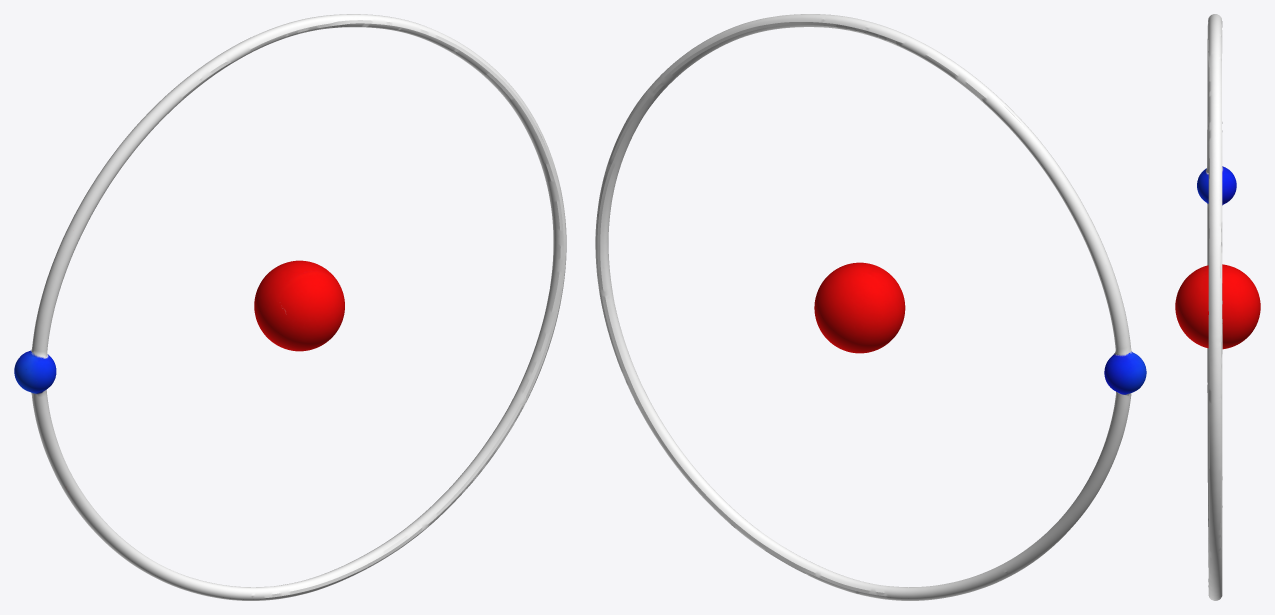
Rendered from Meshy_AI_hydrogen_atom_0407062413_texture.fbx.
3 views of the same model, side by side, from view 1: azimuth 30°, elevation 25°; view 2: azimuth 150°, elevation 25°; view 3: azimuth 270°, elevation 25° (orthographic). The views are drawn at different scales.
Visible parts, largest first — view 1: output; view 2: output; view 3: output.
Boxes of the visible parts, <box> form: output: <box>14,14,566,600</box>; output: <box>595,14,1146,600</box>; output: <box>1175,14,1260,600</box>.
Size of the model in its own units: 191 by 191 by 27.4.
Materials: 1 (1 with a texture image).
